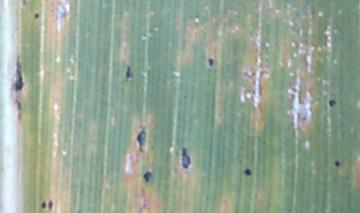tarspot: (11, 53, 27, 97), (135, 124, 150, 154), (179, 146, 194, 172), (14, 100, 25, 124), (141, 168, 155, 186), (122, 63, 134, 82), (327, 97, 339, 109), (39, 198, 47, 213), (47, 198, 54, 213), (206, 57, 214, 69), (33, 12, 43, 20), (332, 159, 342, 167), (242, 167, 251, 175), (20, 1, 27, 7)
